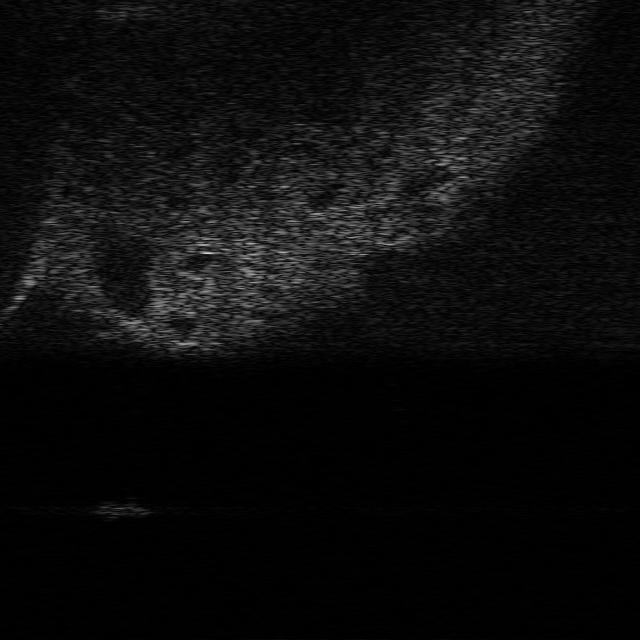cube: (92, 501, 152, 517)
